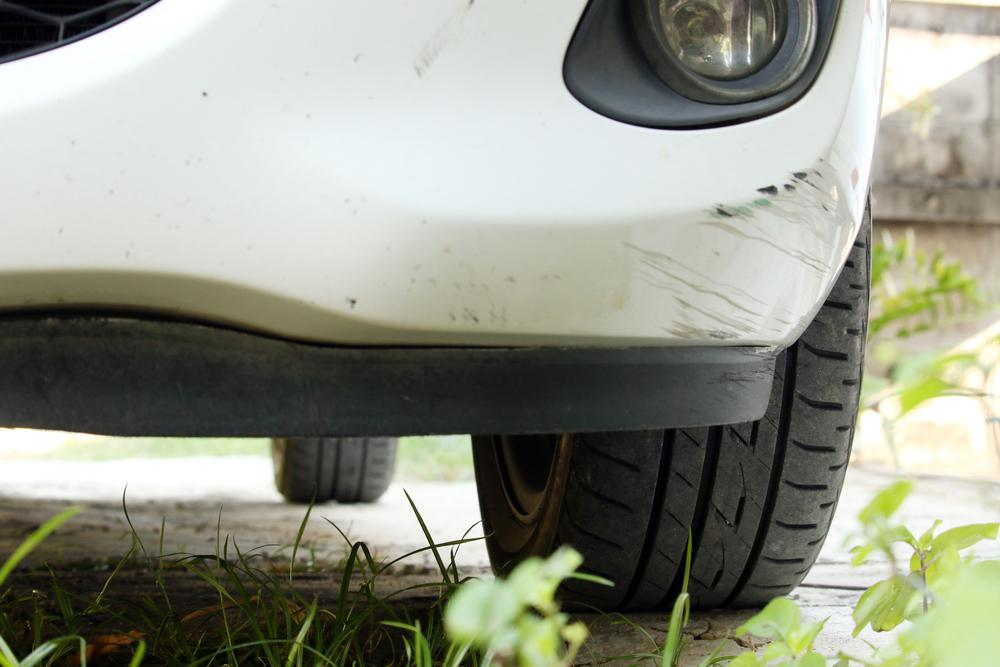scratch: (621, 157, 859, 346)
